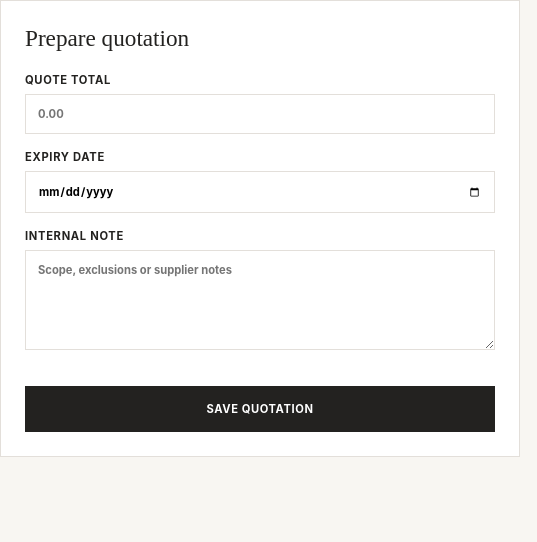
it: does not create a cabinetry quote with a zero amount
Type "0" into the number field labelled "Quote total".
click(260, 114); type("0")  # box [25,94,495,134]
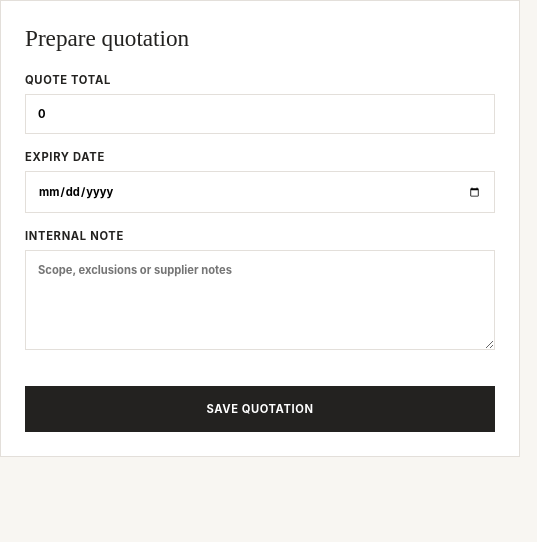
Click the button "Save quotation".
click(260, 408)  # box [25,386,495,432]
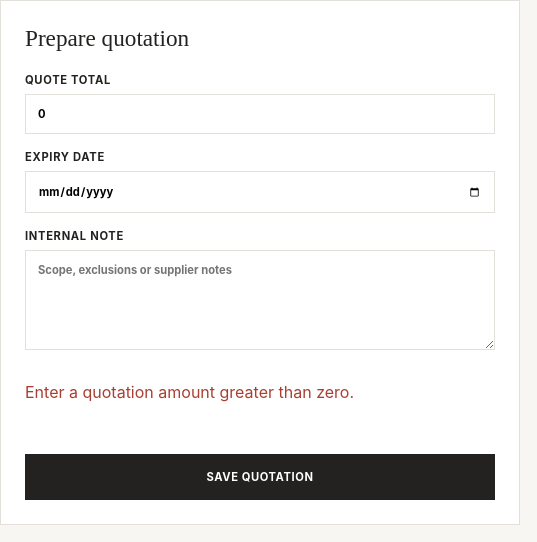
expect the message reads "Enter a quotation amount greater than zero.": met, box [25,382,354,402]
